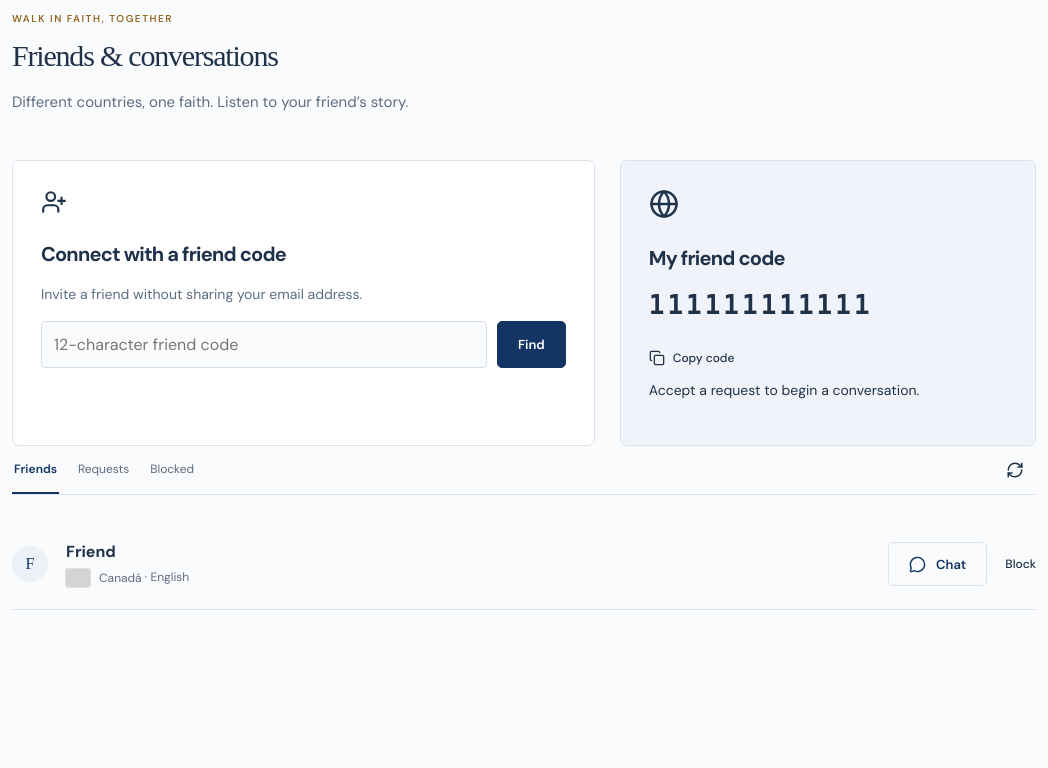
Test case: does not replace the selected chat language with a late previous translation
Click the button "Chat": (938, 564) [888, 542, 987, 586]
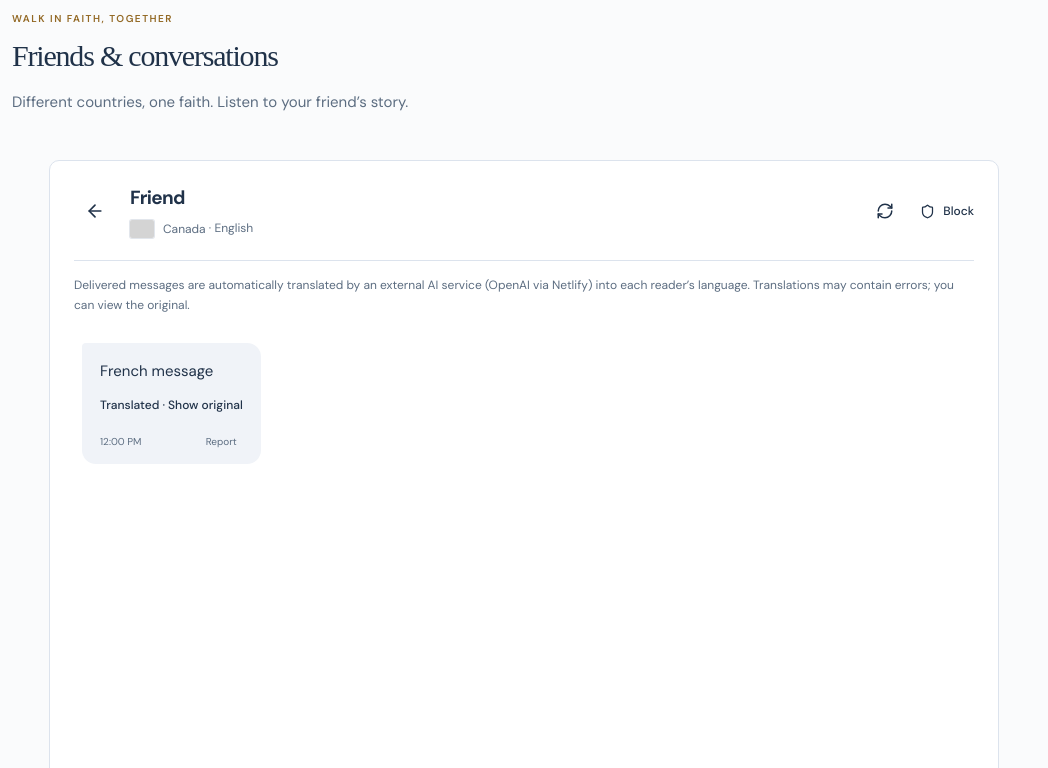
Result: the text "French message" is shown at [100, 361, 213, 381]
